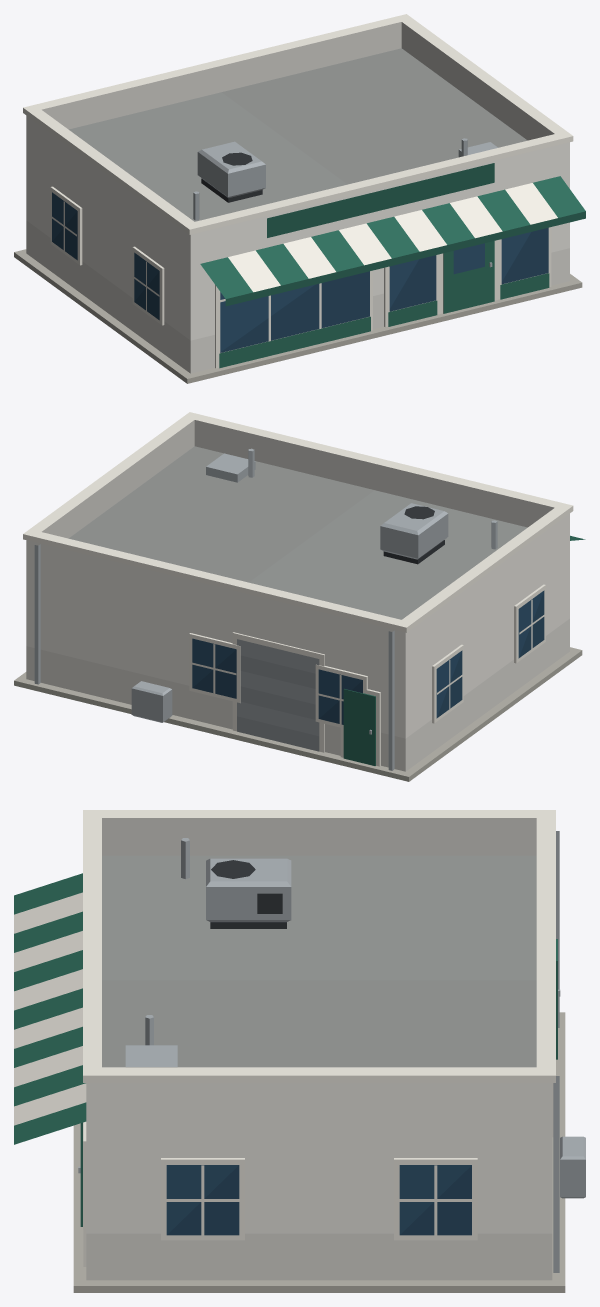
Rendered from store_12x9.glb.
3 renders of one model, top to bottom at view 1: azimuth 30°, elevation 25°; view 2: azimuth 150°, elevation 25°; view 3: azimuth 270°, elevation 25°, orthographic. The views are drawn at different scales.
Parts seen in each view (by area): view 1: block; view 2: block; view 3: block.
Part boxes in pixels (x1=…): block: x1=14, y1=14, x2=585, y2=383; block: x1=14, y1=412, x2=585, y2=781; block: x1=14, y1=810, x2=585, y2=1292.
Size of the model in its own units: 12.5 by 4.77 by 11.05.
